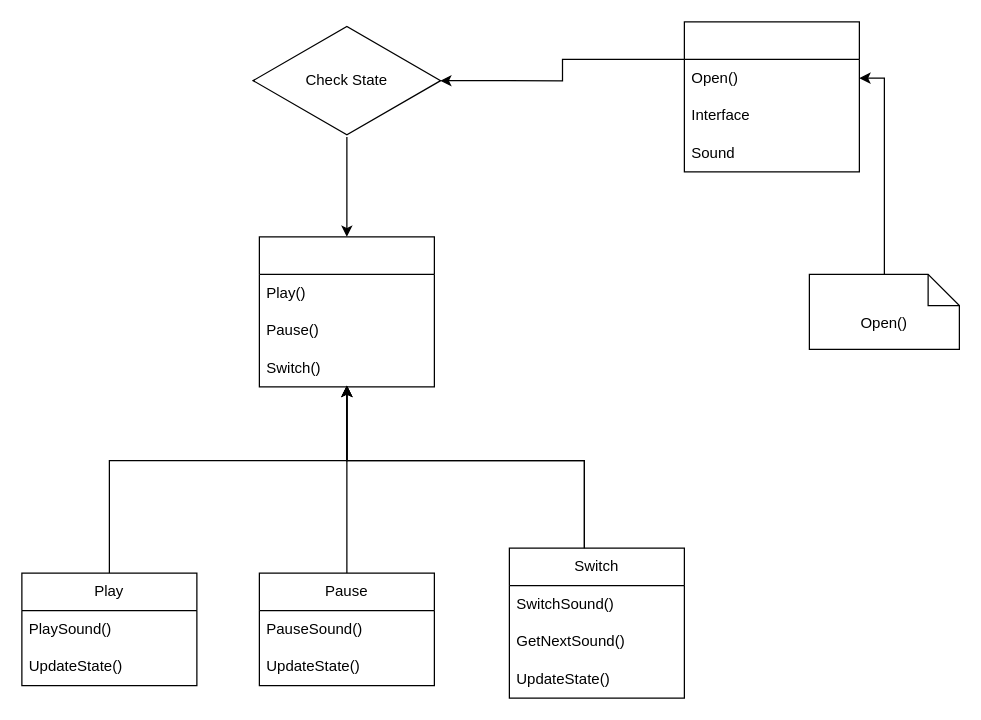
Some shapes in this 981 by 720 pixel diagram are drawn without their labels. Here are the shapes that lost their labels. From the top down, the box of each, then its label:
(683, 21, 859, 172): Music app
(258, 236, 434, 387): State
